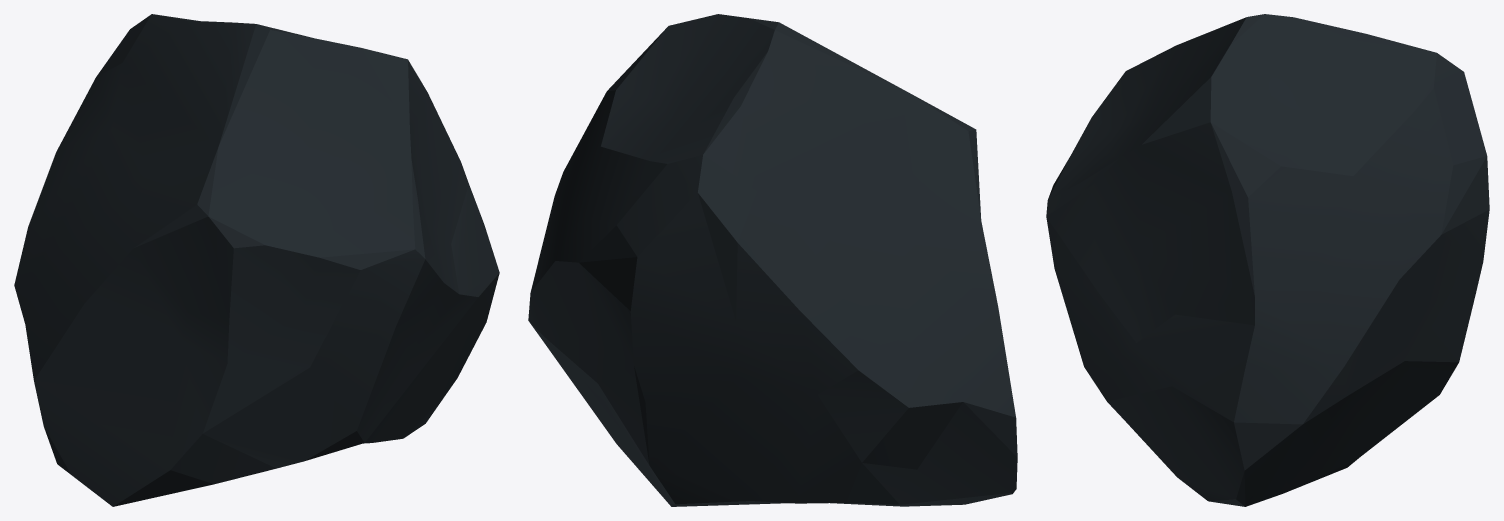
The model's file is Asteroid_s_22.FBX.
3 renders of one model, left to right at view 1: azimuth 30°, elevation 25°; view 2: azimuth 150°, elevation 25°; view 3: azimuth 270°, elevation 25°, orthographic. The views are drawn at different scales.
Parts seen in each view (by area): view 1: Asteroid_s_22; view 2: Asteroid_s_22; view 3: Asteroid_s_22.
Part boxes in pixels (bbox=[...]): Asteroid_s_22: bbox=[14, 14, 499, 506]; Asteroid_s_22: bbox=[528, 14, 1017, 506]; Asteroid_s_22: bbox=[1046, 14, 1489, 506].
Bounding box in the file's own units: 157 × 144 × 133.
